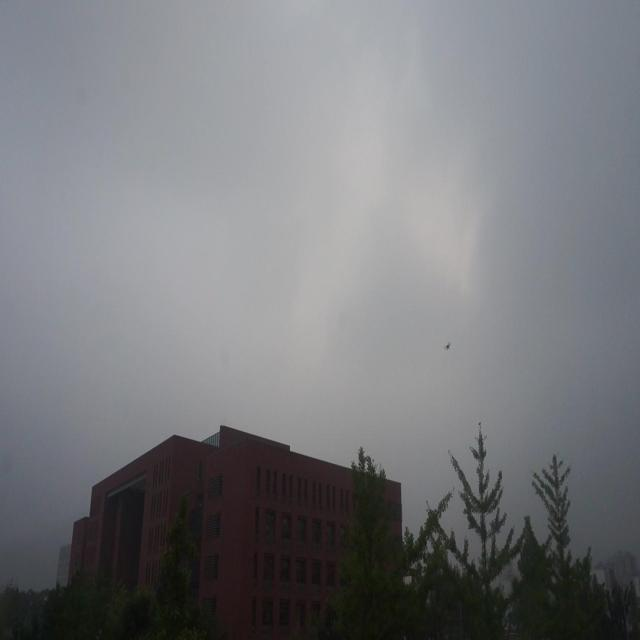drone: (444, 338, 453, 356)
